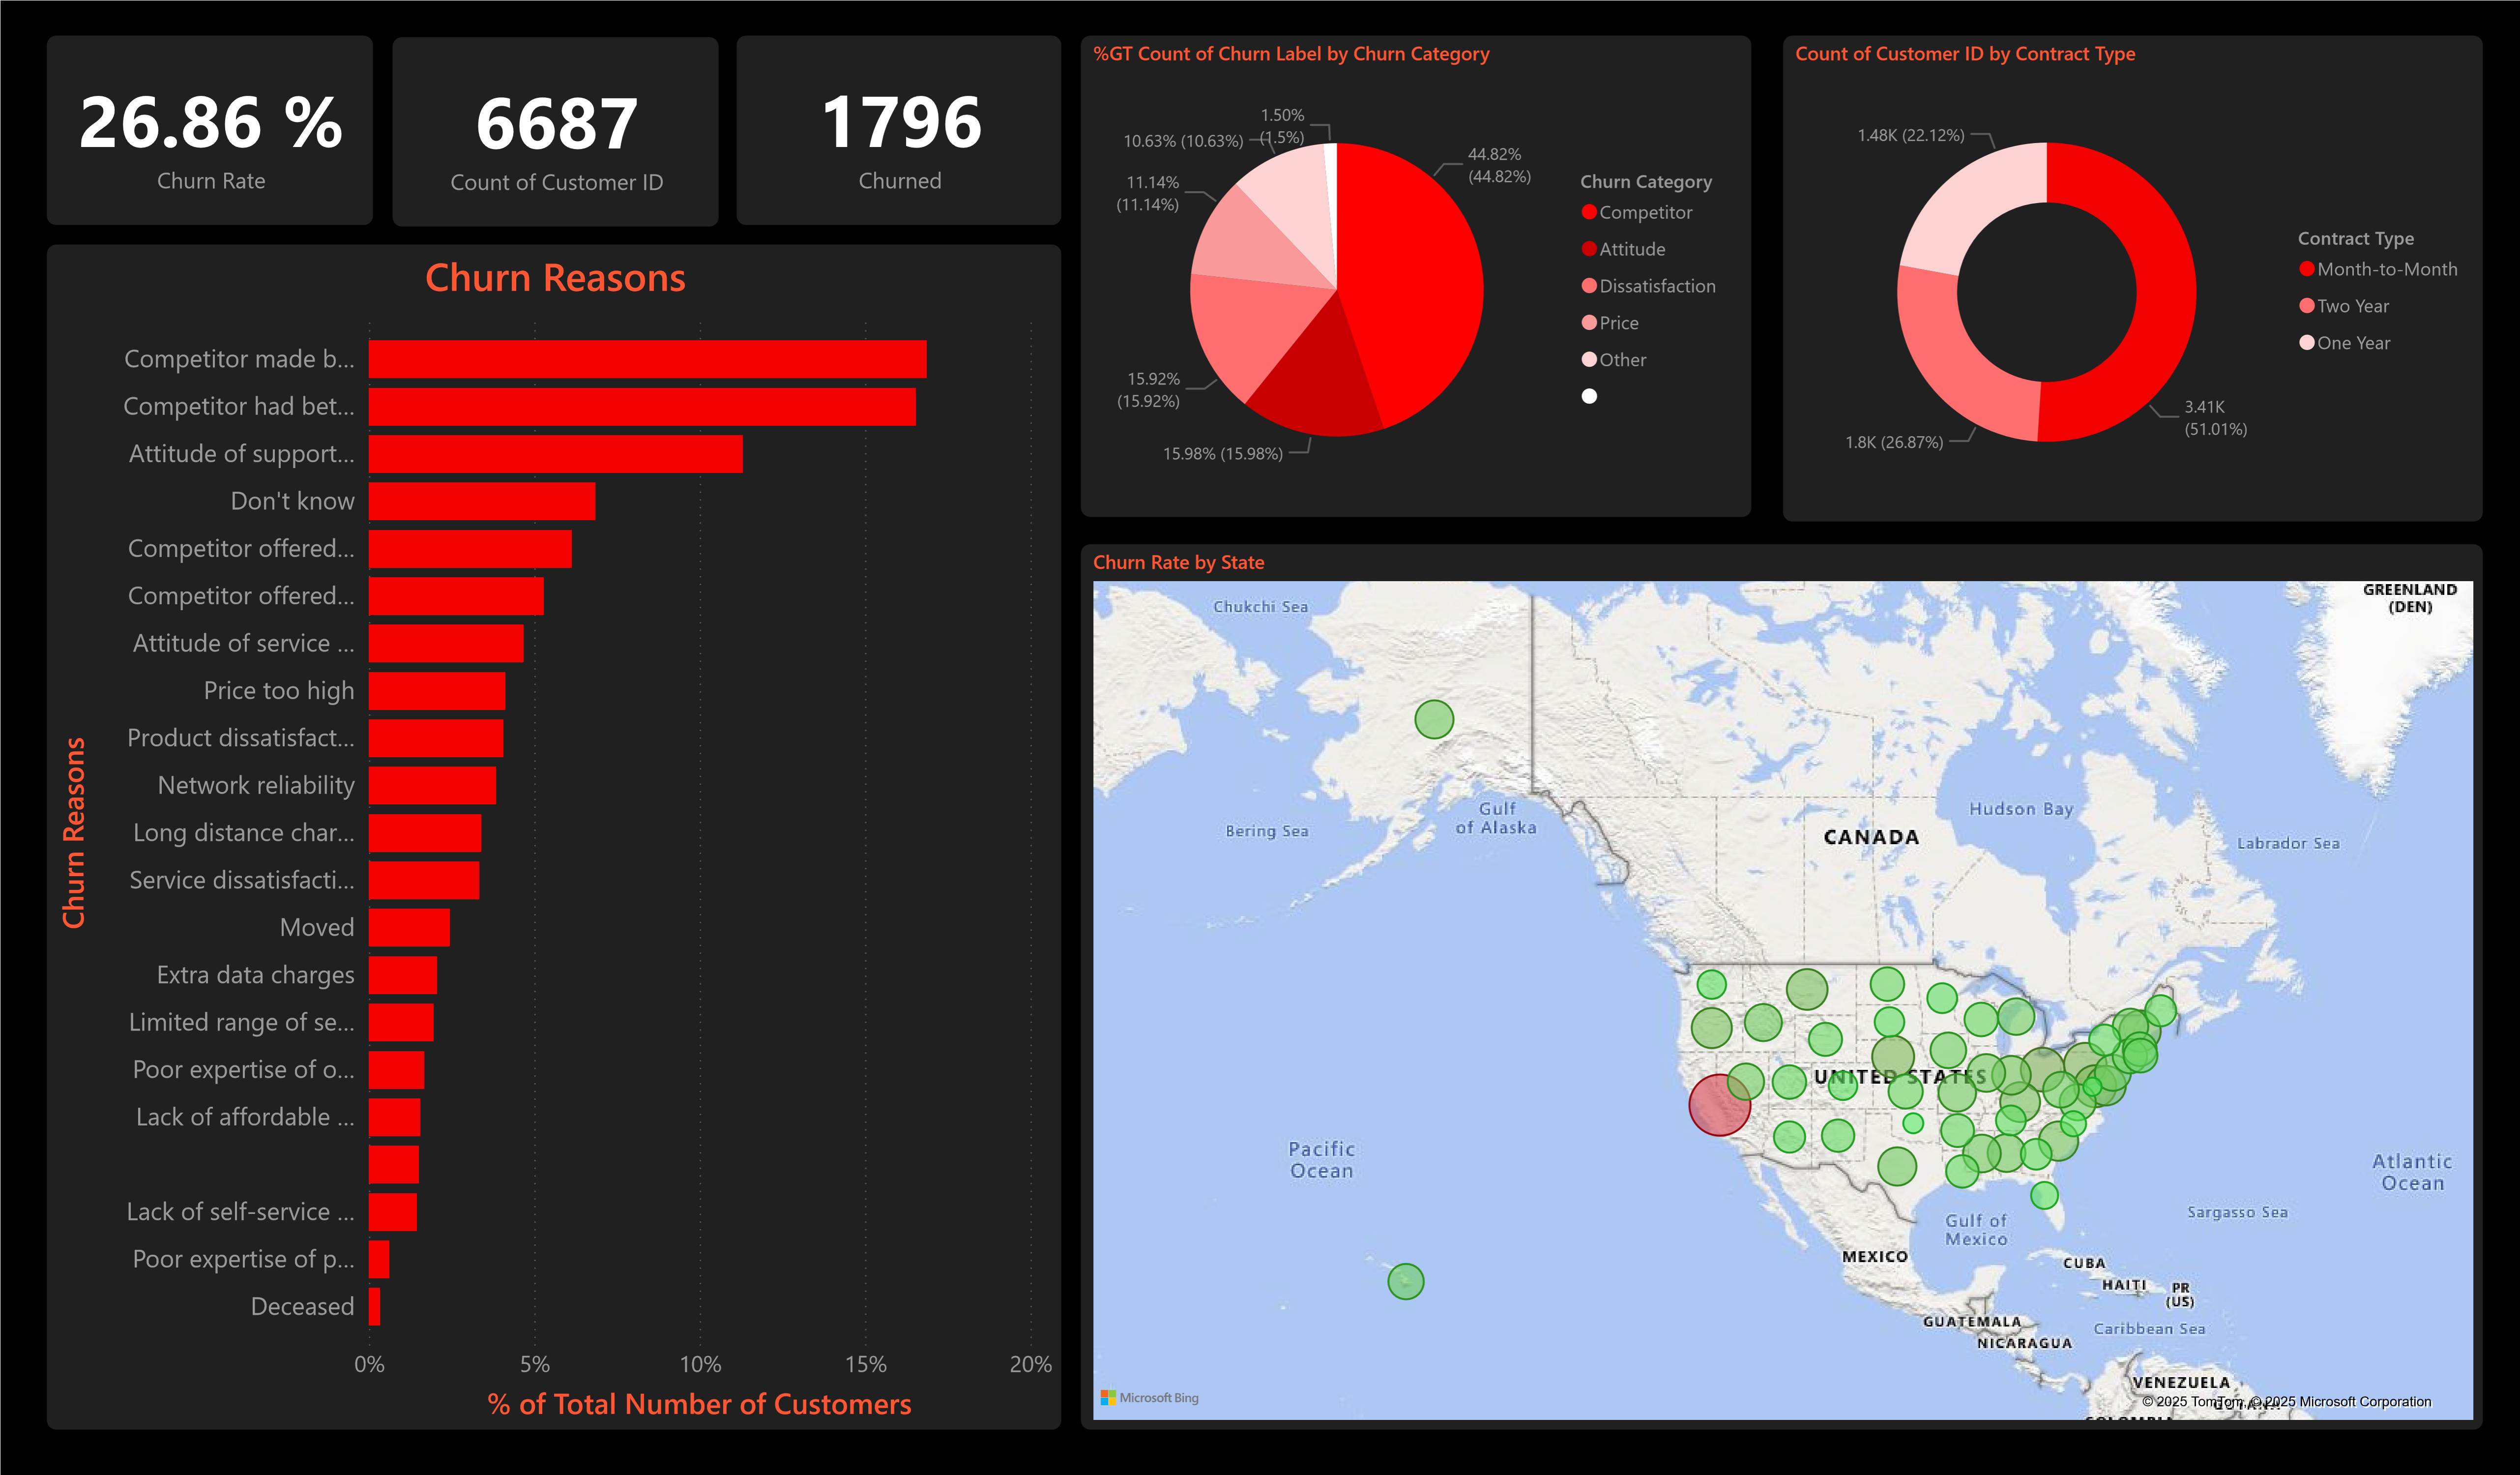

What the dashboard file says about the page in this screenshot:
{"tool":"powerbi","page":{"name":"Overview","canvas":[1640,960],"ordinal":5},"visuals":[{"type":"card","fields":{"Values":["Databel - Data.Churn Rate"]},"box":[29.7,22.9,211.9,122.8],"z":0},{"type":"card","fields":{"Values":["Count(Databel - Data.Customer ID)"]},"box":[255.1,24.3,211.9,122.8],"z":1000},{"type":"card","fields":{"Values":["Sum(Databel - Data.Churned)"]},"box":[479.2,22.9,210.6,122.8],"z":2000},{"type":"clusteredBarChart","title":"Churn Reasons","fields":{"Category":["Databel - Data.Churn Reason"],"Y":["CountNonNull(Databel - Data.Number of Customers in Group)"]},"box":[29.7,159.3,660.1,770.8],"z":3000},{"type":"donutChart","fields":{"Y":["Count(Databel - Data.Customer ID)"],"Category":["Databel - Data.Contract Type"]},"box":[1159.6,22.9,454.9,315.9],"z":4000},{"type":"pieChart","fields":{"Category":["Databel - Data.Churn Category"],"Y":["CountNonNull(Databel - Data.Churn Label)"]},"box":[703.3,22.9,436,313.2],"z":5000},{"type":"map","fields":{"Category":["Databel - Data.State"],"Size":["Databel - Data.Churn Rate"]},"box":[703.3,353.7,911.2,576.4],"z":6000}]}

Visuals, with their boxes in screenshot pixels (x1, y1, x2, y2), scaled from the page's 1640x960 canvas onto the 2520x1475 screenshot:
card - Databel - Data.Churn Rate: region(46, 35, 371, 224)
card - Count(Databel - Data.Customer ID): region(392, 37, 718, 226)
card - Sum(Databel - Data.Churned): region(736, 35, 1060, 224)
"Churn Reasons" clusteredBarChart: region(46, 245, 1060, 1429)
donutChart - Count(Databel - Data.Customer ID) x Databel - Data.Contract Type: region(1782, 35, 2481, 521)
pieChart - Databel - Data.Churn Category x CountNonNull(Databel - Data.Churn Label): region(1081, 35, 1751, 516)
map - Databel - Data.State x Databel - Data.Churn Rate: region(1081, 543, 2481, 1429)
